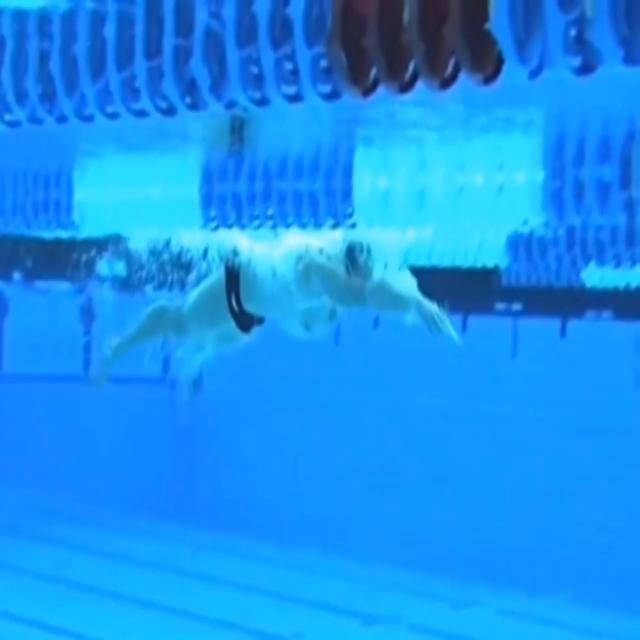Swimming: (102, 238, 461, 383)
